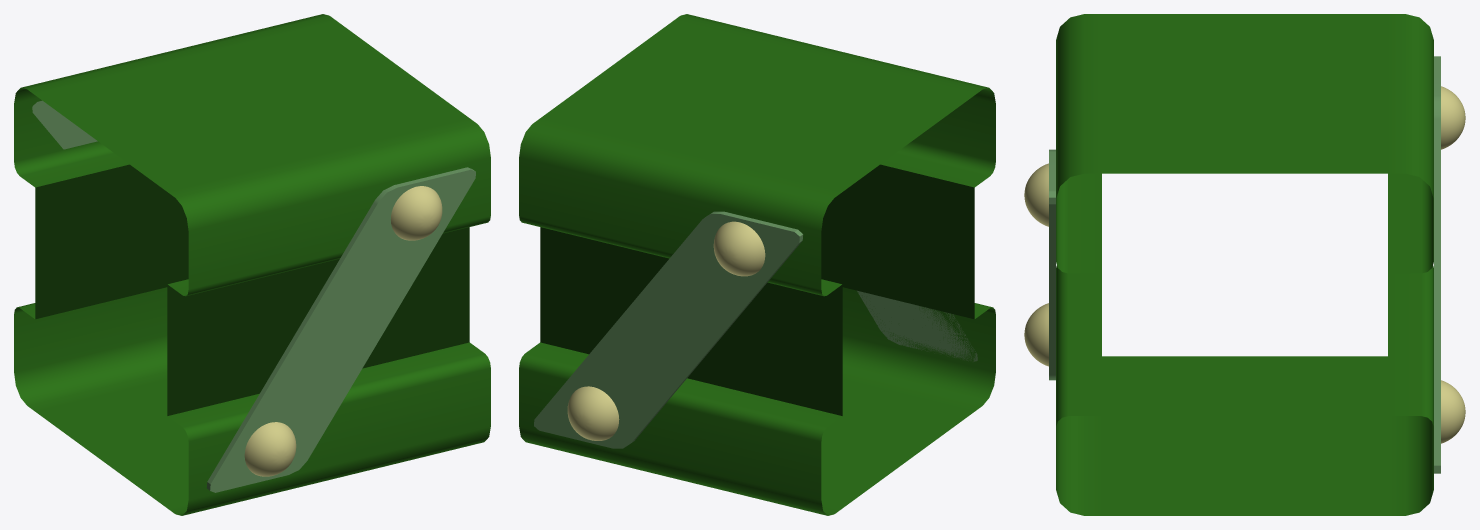
The model's file is a1_R_tekkotu.fbx.
3 renders of one model, left to right at view 1: azimuth 30°, elevation 25°; view 2: azimuth 150°, elevation 25°; view 3: azimuth 270°, elevation 25°, orthographic. The views are drawn at different scales.
Visible parts, largest first — view 1: R_tekkotu; view 2: R_tekkotu; view 3: R_tekkotu.
Boxes of the visible parts, bbox=[...] form: R_tekkotu: bbox=[14, 14, 490, 515]; R_tekkotu: bbox=[519, 14, 995, 515]; R_tekkotu: bbox=[1024, 14, 1465, 515].
Size of the model in its own units: 2 by 2 by 2.34.
